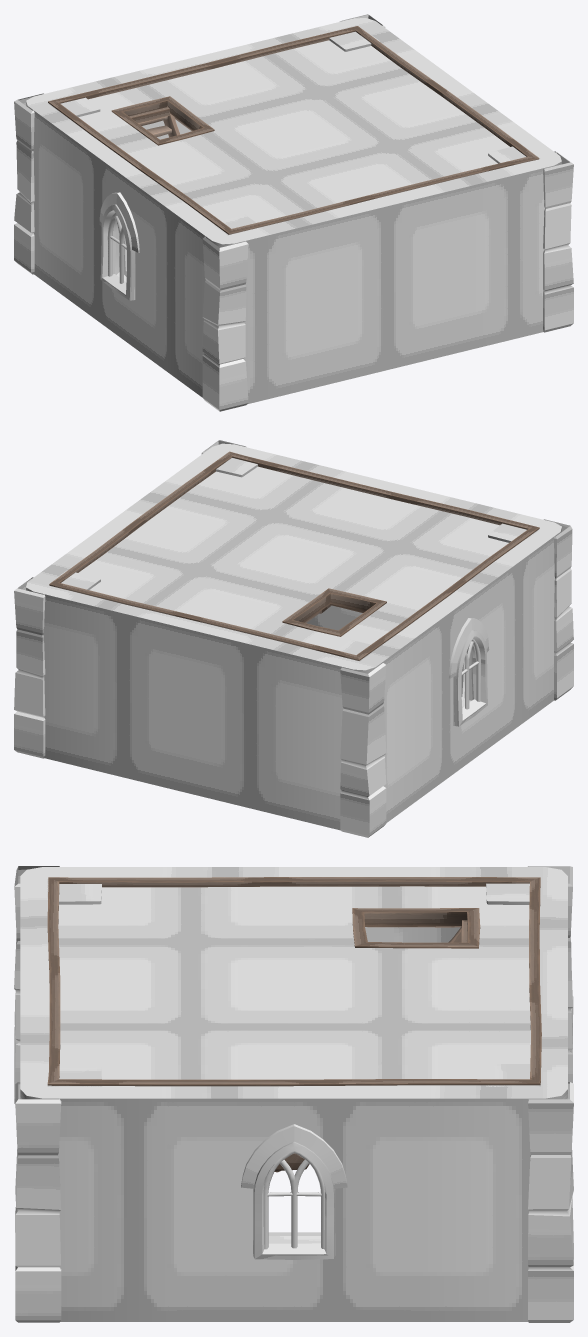
Rendered from SM_TowerE_Mid2Window.fbx.
The picture shows the model from 3 angles, top to bottom: view 1: azimuth 30°, elevation 25°; view 2: azimuth 150°, elevation 25°; view 3: azimuth 270°, elevation 25°; orthographic projection. The views are drawn at different scales.
Visible parts, largest first — view 1: SM_TowerE_Mid2Window_LOD0; view 2: SM_TowerE_Mid2Window_LOD0; view 3: SM_TowerE_Mid2Window_LOD0.
Part boxes in pixels (x1,y1,x2,y2): SM_TowerE_Mid2Window_LOD0: (14, 14, 573, 411); SM_TowerE_Mid2Window_LOD0: (14, 440, 573, 837); SM_TowerE_Mid2Window_LOD0: (14, 866, 573, 1322).
Size of the model in its own units: 1037 by 1022 by 467.
